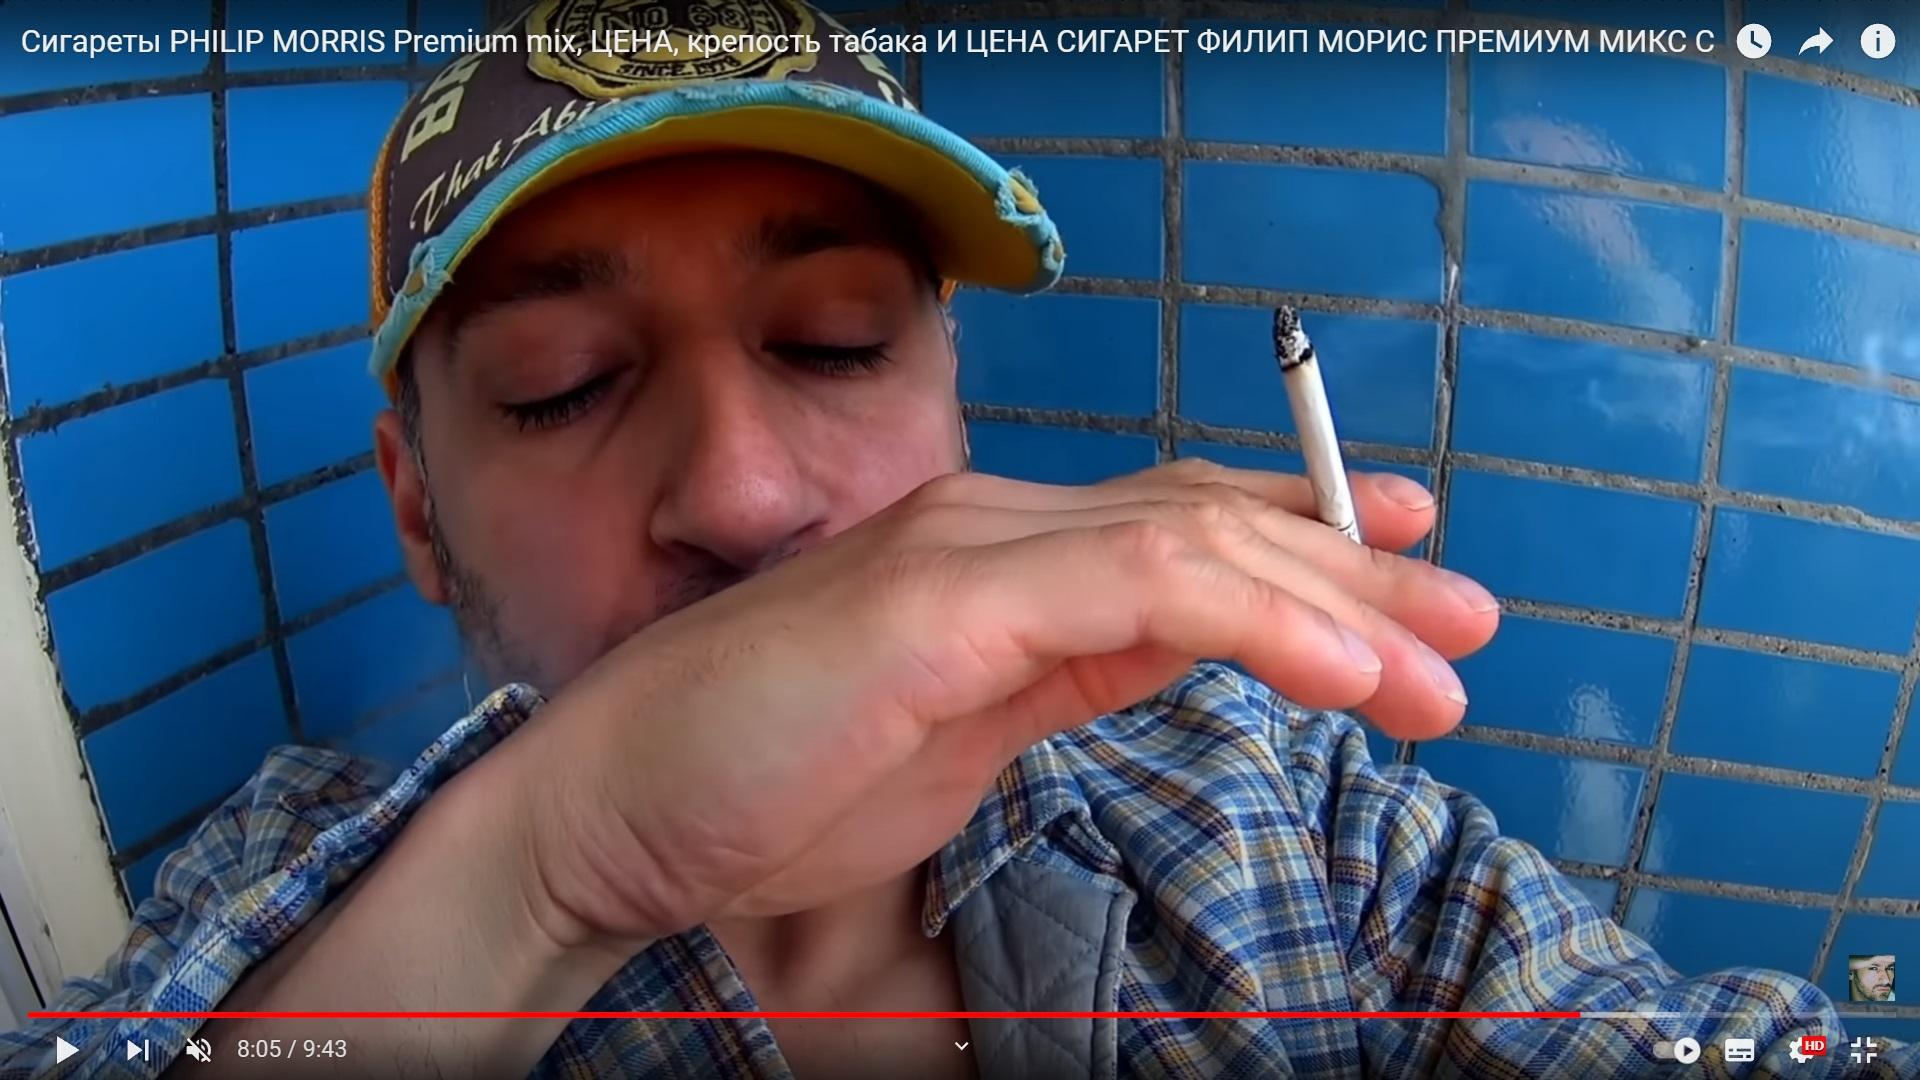cigarette: (1274, 303, 1362, 543)
